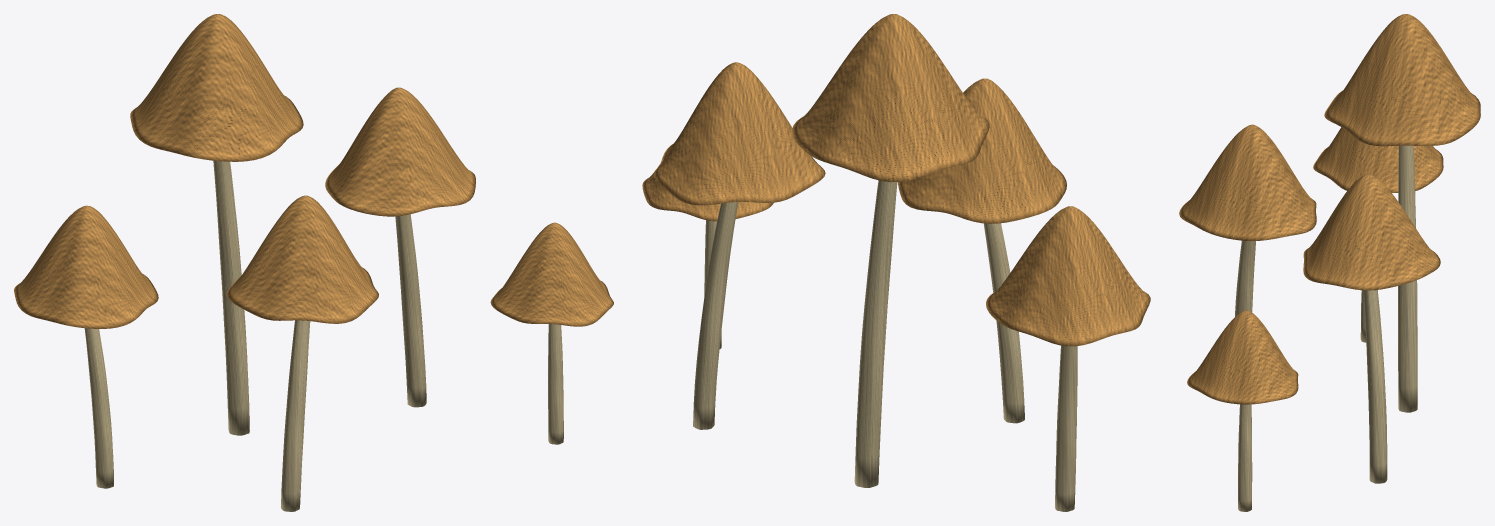
Rendered from bell.glb.
The picture shows the model from 3 angles, left to right: view 1: azimuth 30°, elevation 25°; view 2: azimuth 150°, elevation 25°; view 3: azimuth 270°, elevation 25°; orthographic projection. The views are drawn at different scales.
Visible parts, largest first — view 1: Bell_01, Bell_02, Bell_05, Bell_03, Bell_04; view 2: Bell_01, Bell_02, Bell_03, Bell_05, Bell_04; view 3: Bell_01, Bell_02, Bell_05, Bell_04, Bell_03.
Boxes of the visible parts, <box> form: Bell_01: <box>130,14,303,435</box>; Bell_02: <box>325,87,475,407</box>; Bell_05: <box>226,195,378,511</box>; Bell_03: <box>14,205,158,488</box>; Bell_04: <box>490,222,613,444</box>; Bell_01: <box>792,14,989,487</box>; Bell_02: <box>653,62,825,429</box>; Bell_03: <box>986,206,1150,511</box>; Bell_05: <box>897,78,1066,423</box>; Bell_04: <box>642,166,773,348</box>; Bell_01: <box>1324,14,1480,412</box>; Bell_02: <box>1303,173,1440,483</box>; Bell_05: <box>1179,124,1316,316</box>; Bell_04: <box>1187,310,1298,511</box>; Bell_03: <box>1313,127,1443,342</box>.
Bounding box in the file's own units: 0.1637 × 0.13 × 0.0926.
3 materials, 3 textured.
